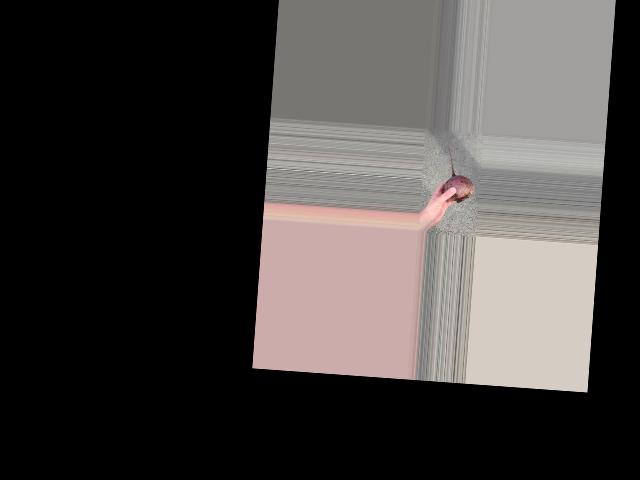beet: (443, 147, 477, 203)
